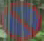No waiting: (3, 3, 40, 40)
